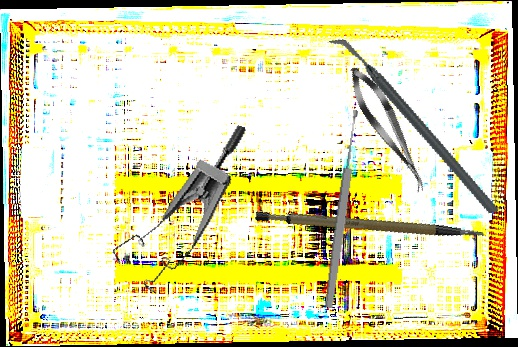Chopper: (325, 6, 502, 246)
Micro Scissor: (341, 60, 436, 198)
Scalpel Handle: (253, 179, 487, 276)
Speculum: (104, 100, 249, 305)
Surgical Spoon: (322, 109, 363, 309)
